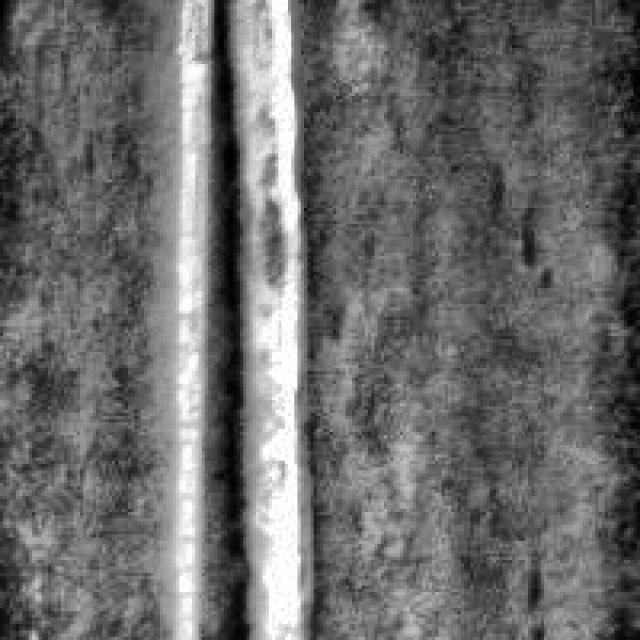Inclusion: (218, 0, 308, 634), (166, 0, 218, 637)
Patches: (512, 540, 547, 614)
